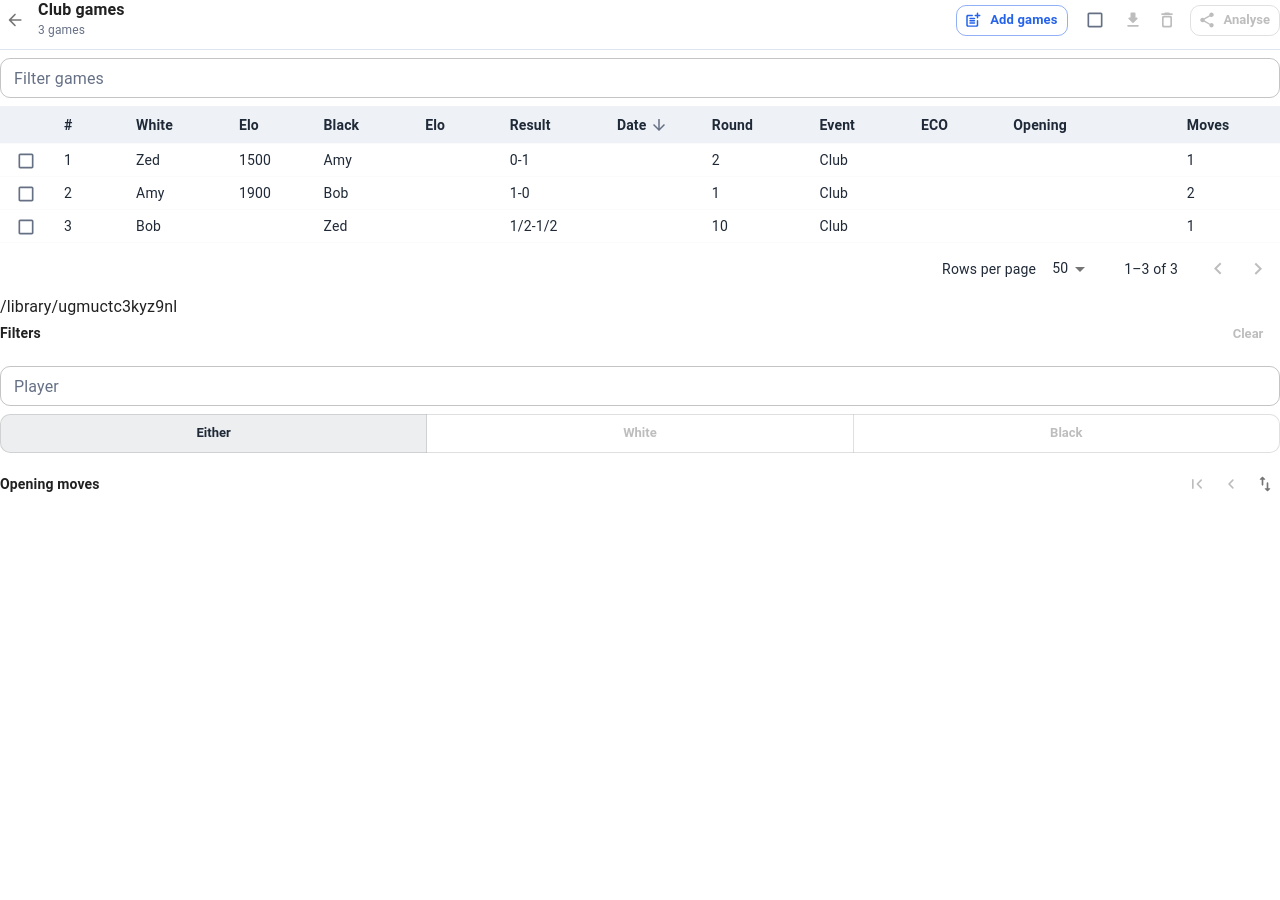
Test: a collection's table › deletes the picked games of an uploaded collection, asking first
Check: the table with test id "library-table" is shown, box top-left (0, 106), bottom-right (1279, 243)
Check: the button with test id "library-picks-delete" is disabled, box top-left (1152, 5), bottom-right (1182, 35)
Click the checkbox named "Select Zed – Amy".
click(26, 161)  # box top-left (16, 151), bottom-right (36, 171)
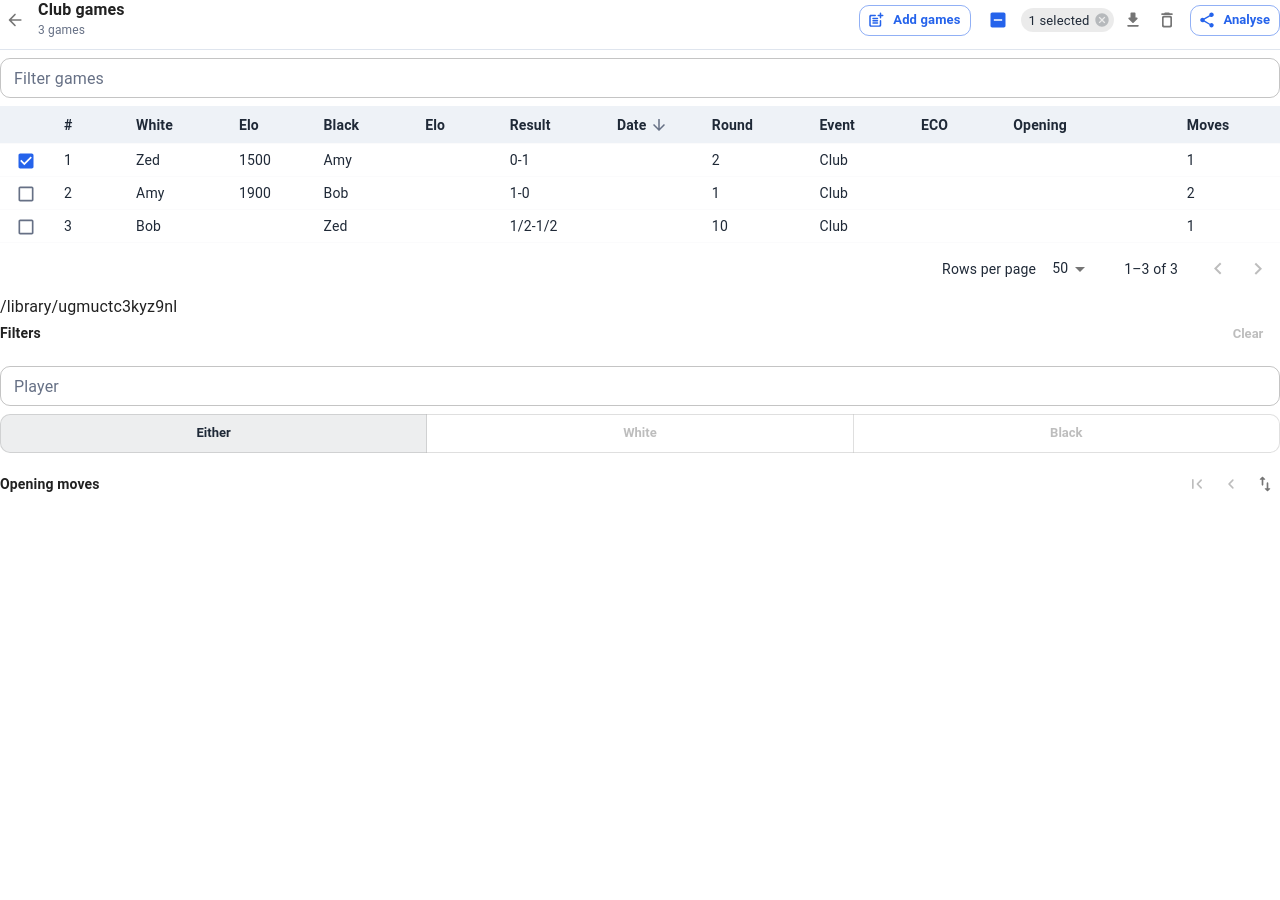
Click the checkbox named "Select Bob – Zed".
click(26, 227)  # box top-left (16, 217), bottom-right (36, 237)
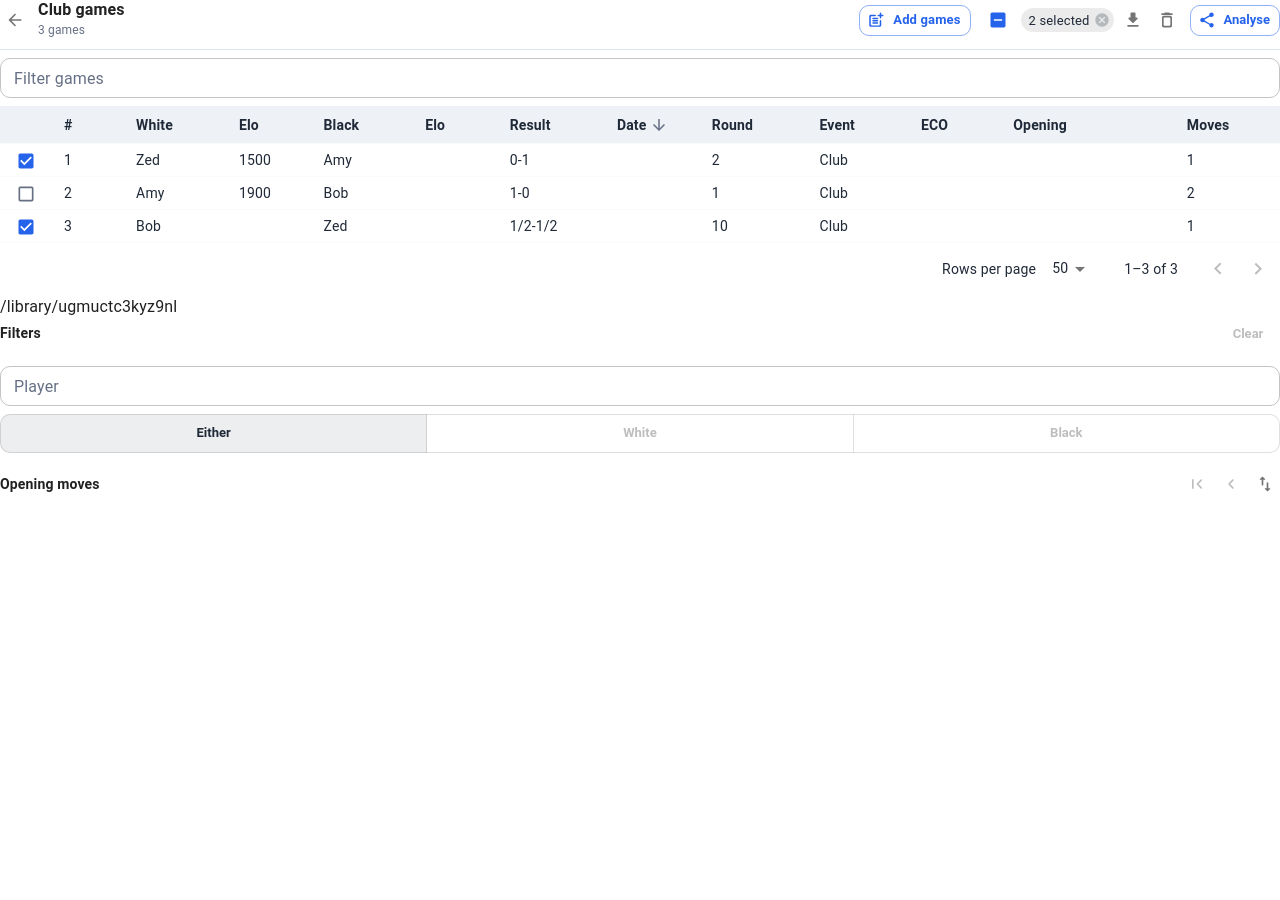
Click the button with test id "library-picks-delete".
click(1167, 20)  # box top-left (1152, 5), bottom-right (1182, 35)
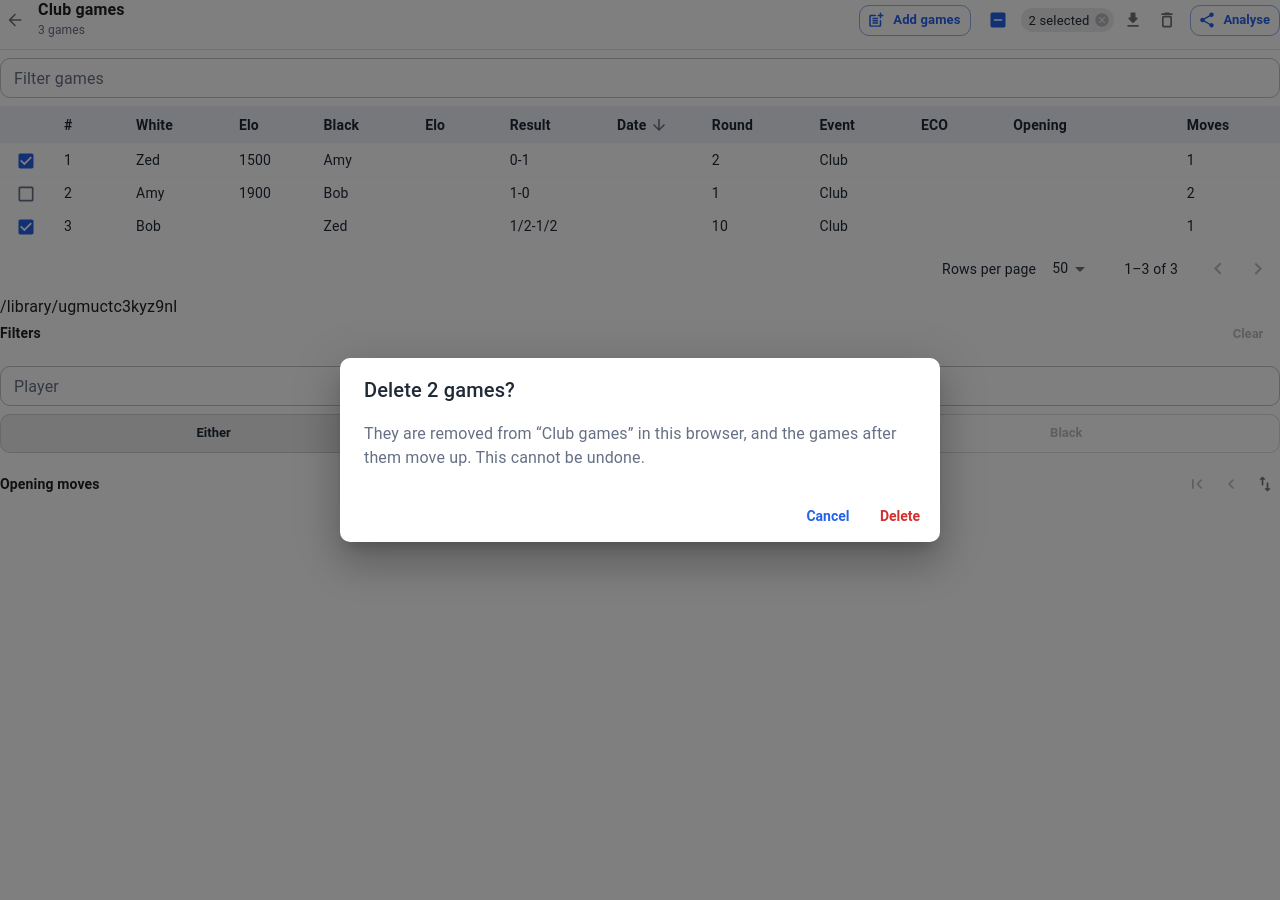
Check: the element with test id "library-picks-delete-dialog" shows "Delete 2 games?", box top-left (364, 378), bottom-right (515, 402)
Click the button with test id "library-picks-delete-confirm".
click(900, 516)  # box top-left (868, 498), bottom-right (932, 534)
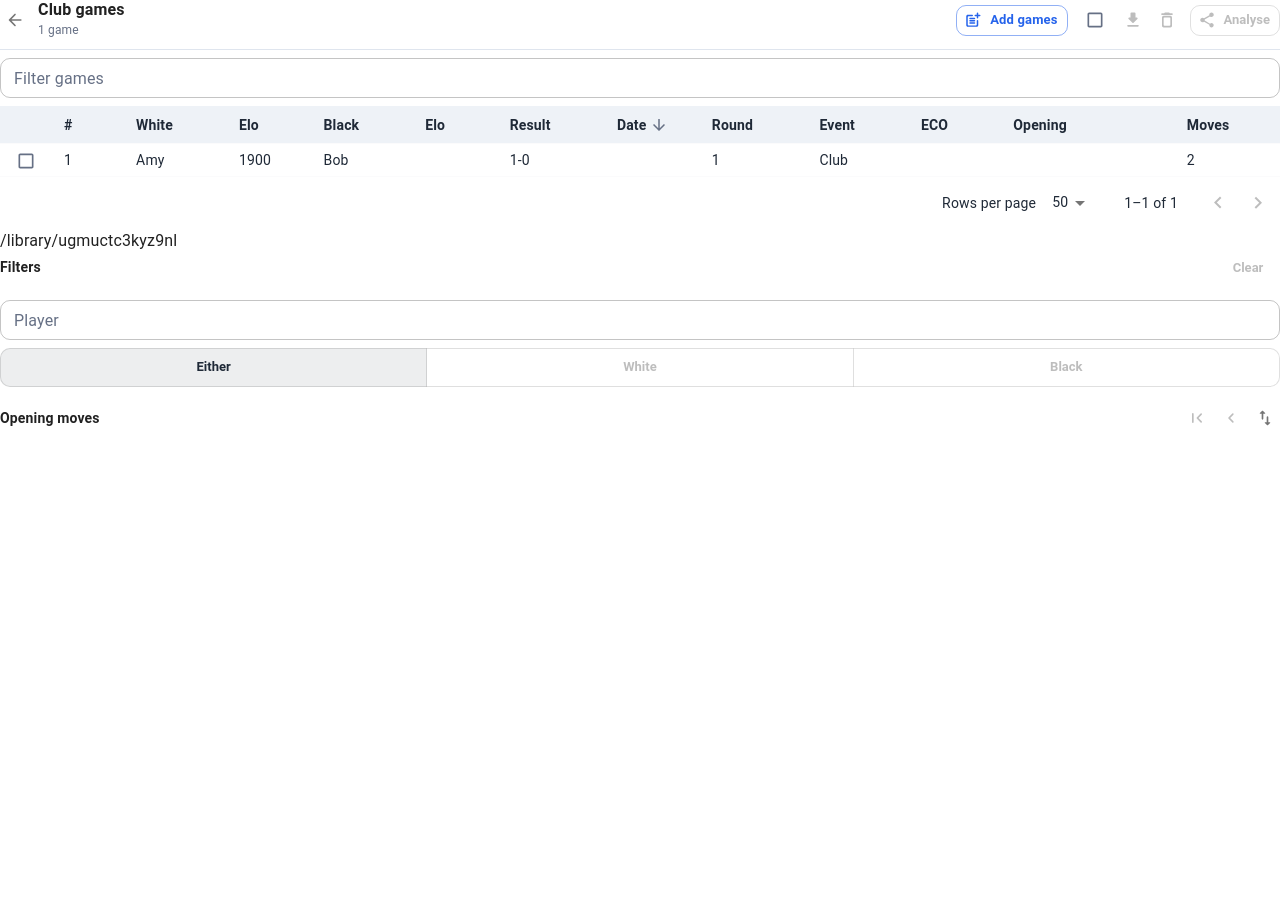
Check: the text with test id "library-table-count" reads "1 game", box top-left (38, 23), bottom-right (79, 37)
Check: the button with test id "library-picks-selected-count" is gone
